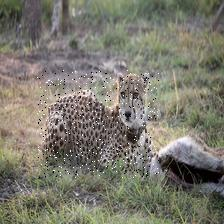Cheetha: (36, 70, 158, 178)
